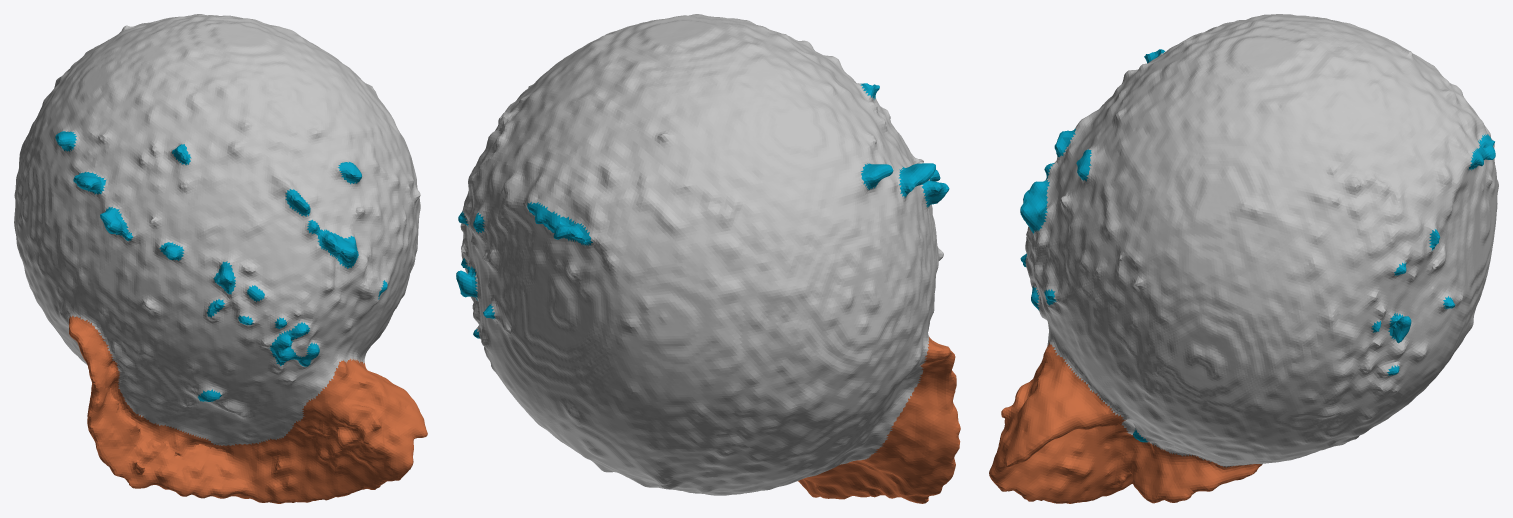
3 renders of one model, left to right at view 1: azimuth 30°, elevation 25°; view 2: azimuth 150°, elevation 25°; view 3: azimuth 270°, elevation 25°, orthographic. The views are drawn at different scales.
Bounding box in the file's own units: 124 × 140 × 139.
